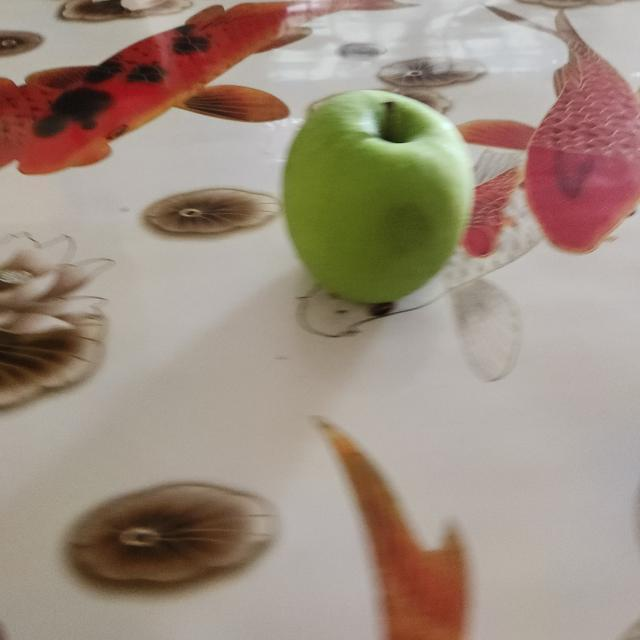apple: (276, 82, 482, 314)
